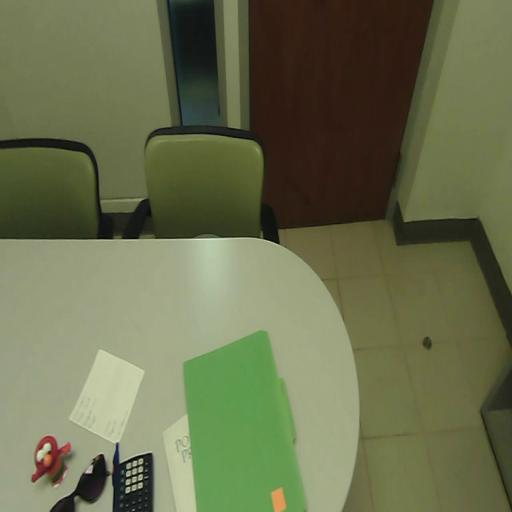pen: (113, 442, 120, 511)
